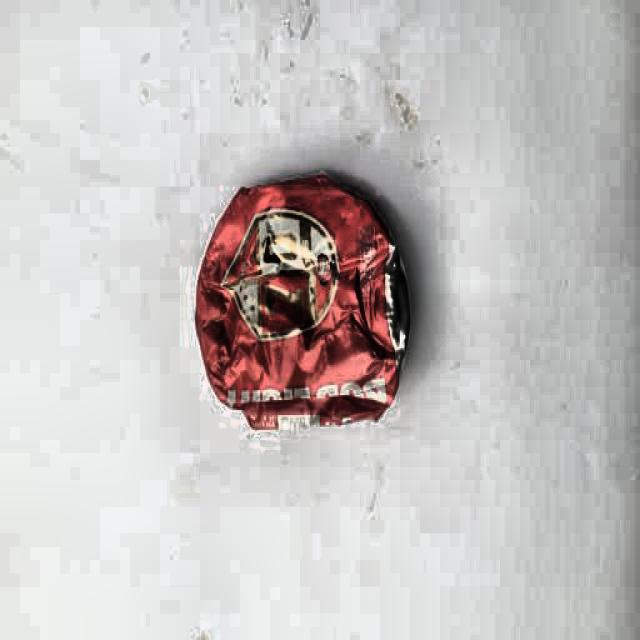metal: (196, 175, 412, 430)
